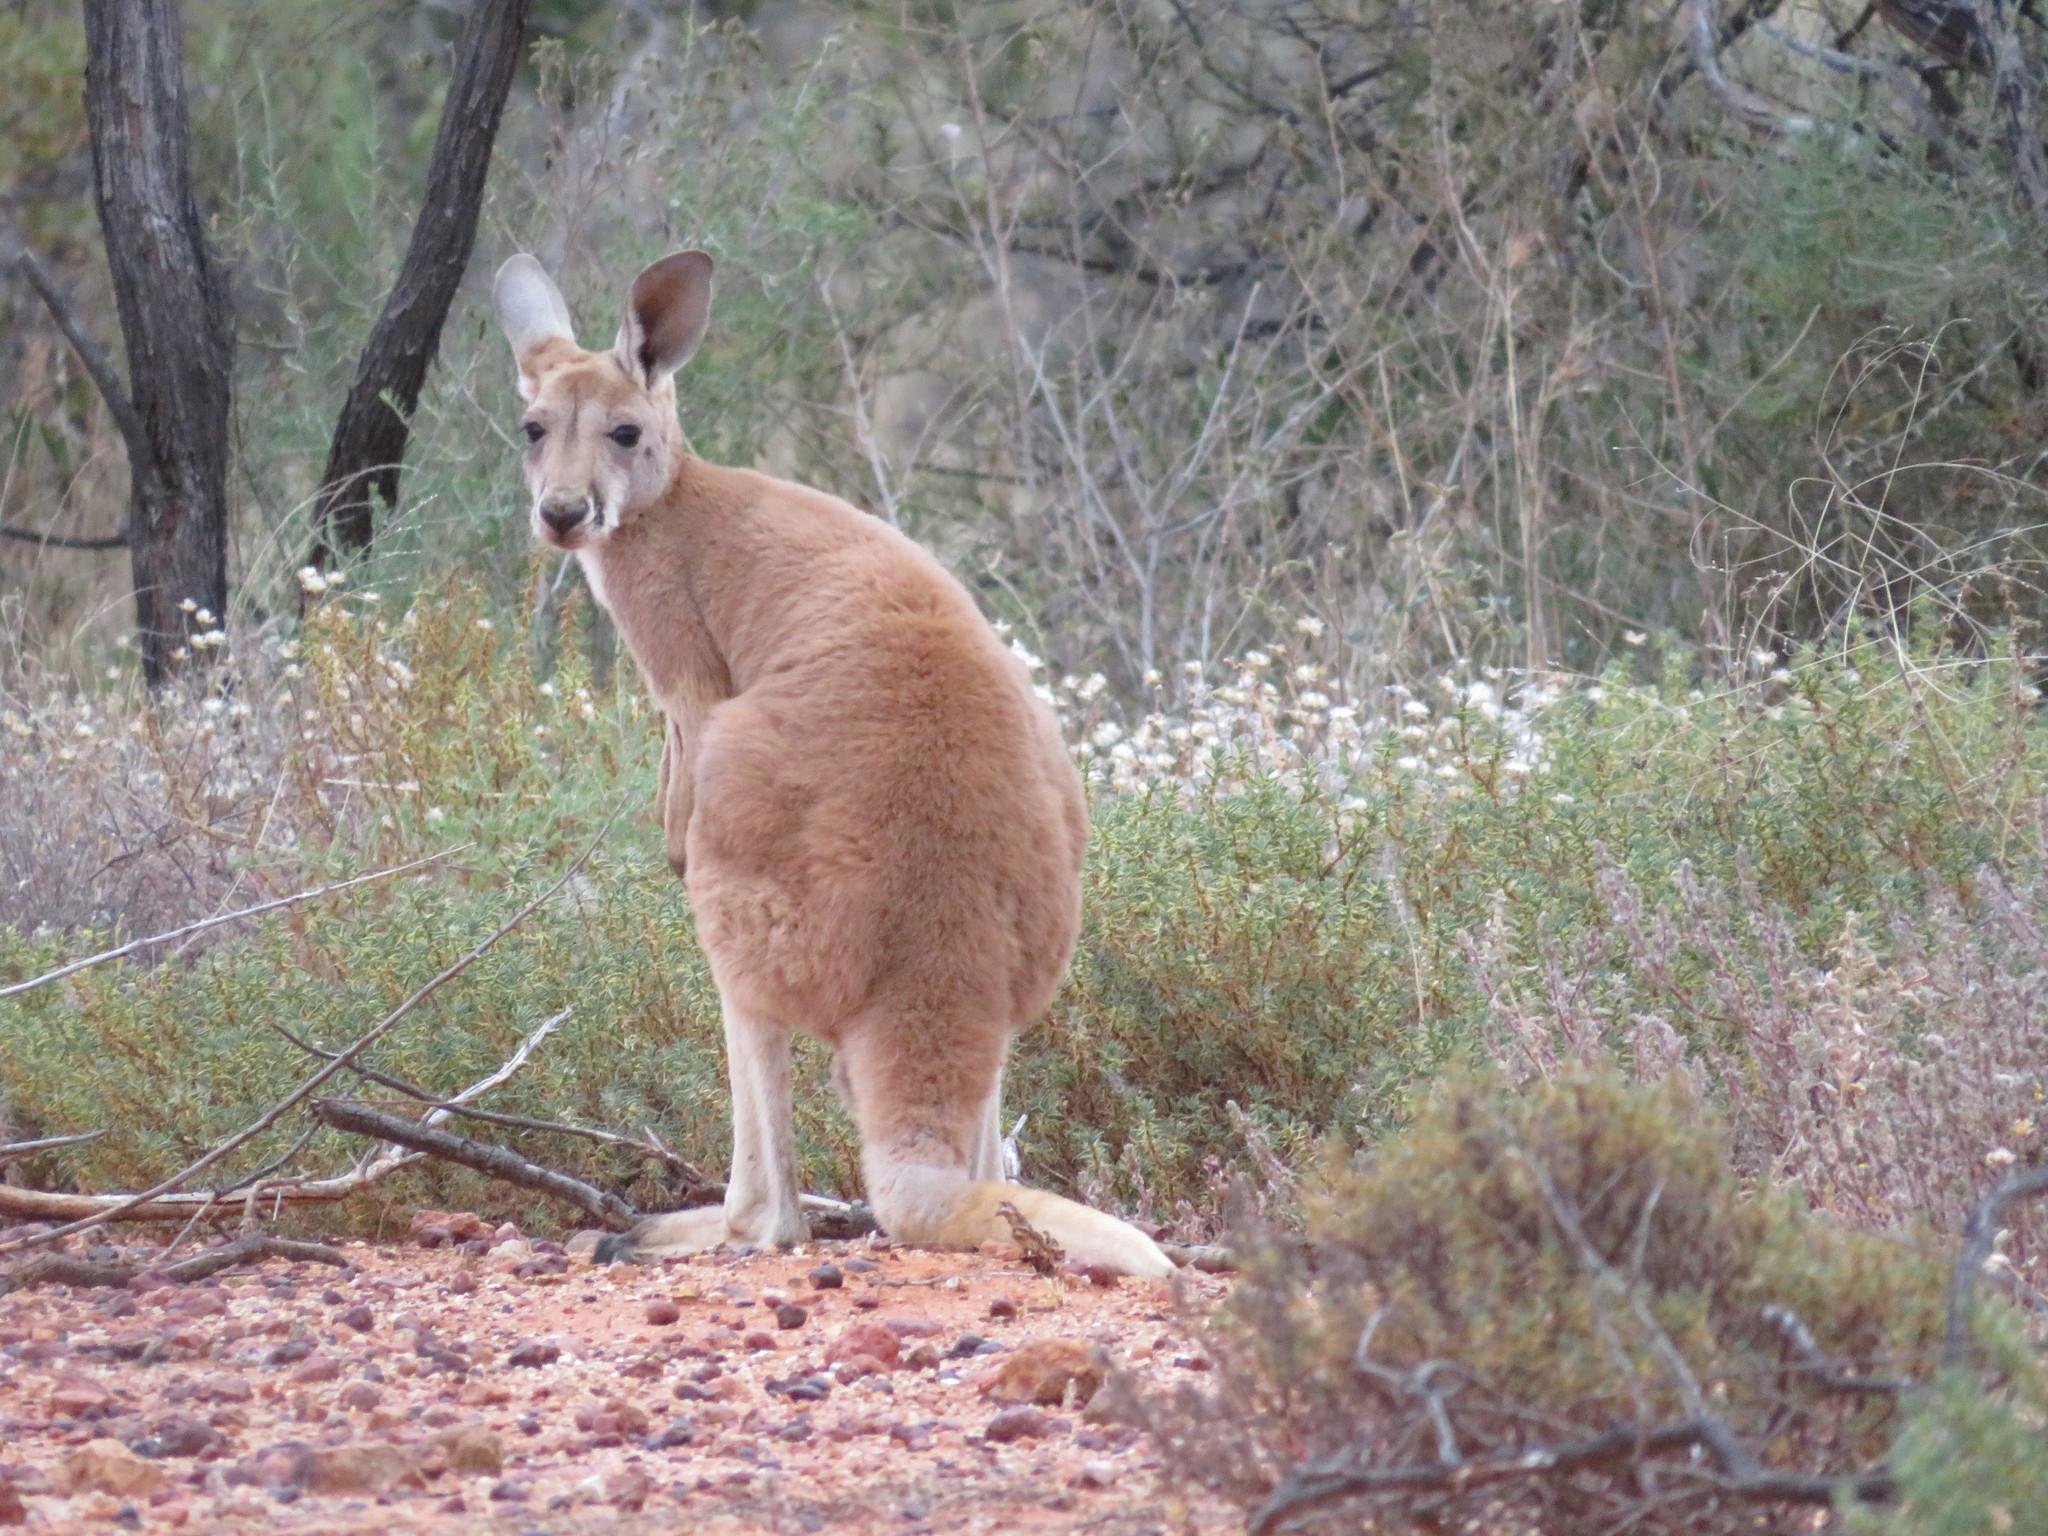Red kangaroo: (489, 252, 1193, 1288)
